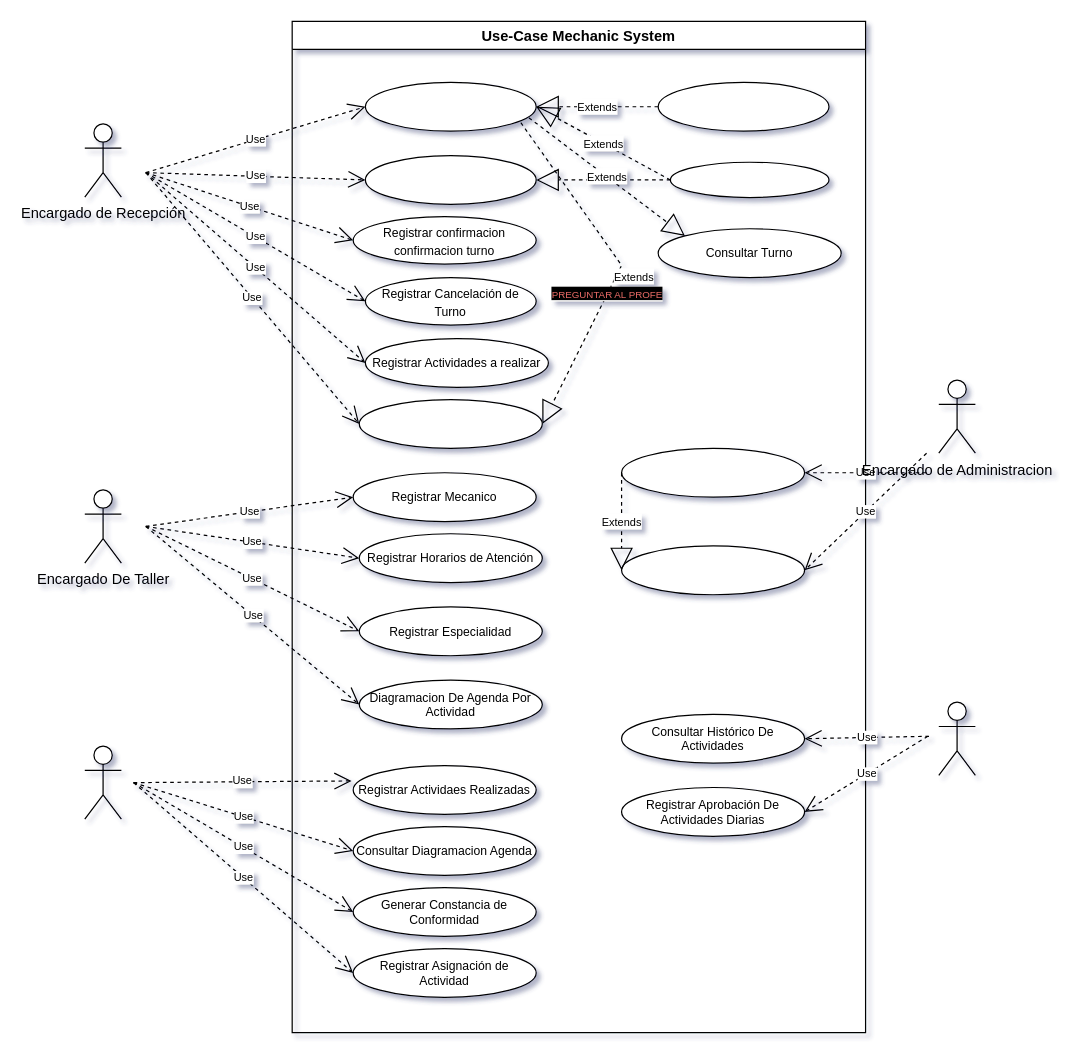
Some shapes in this 1081 by 1061 pixel diagram are drawn without their labels. The centre of each missing label's shape, as x and y in pixels:
"Consultar Diagramación de Agenda" belongs at pixel 450 423.
"Encargado de Operacion" belongs at pixel 956 738.
"Generar Liquidación Aseguradora" belongs at pixel 712 472.
"Generar Reporte de Servicio Brindado" belongs at pixel 712 570.
"Mecanico" belongs at pixel 102 782.
"Modificar Datos Titular" belongs at pixel 749 179.
"Registrar Asistencia a turno" belongs at pixel 450 179.
"Registrar Solicitud de Turno" belongs at pixel 450 106.
"Registrar Titular de Vehiculo" belongs at pixel 743 106.
